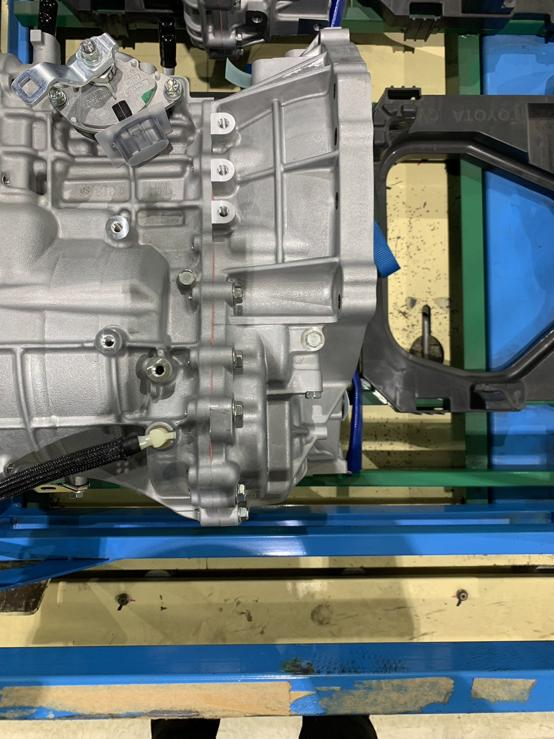gearbox_type1: (0, 18, 376, 533)
gearbox_type1_FP1: (208, 108, 237, 142)
gearbox_type1_FP2: (211, 154, 238, 184)
